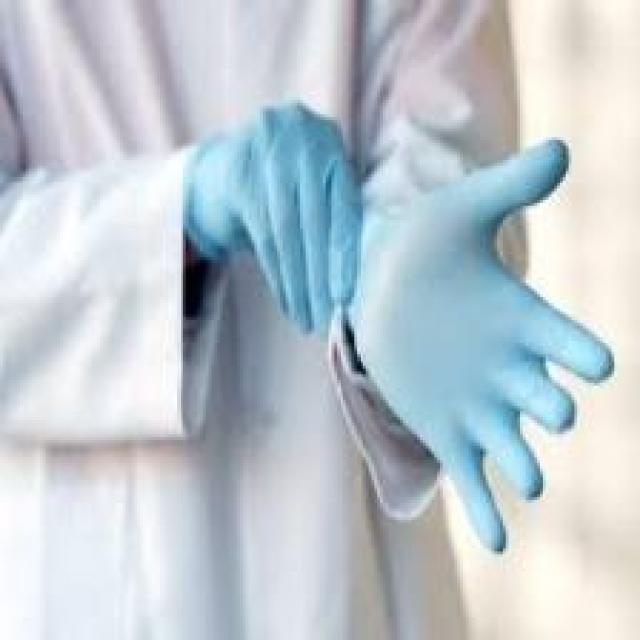Glove: (169, 117, 630, 572)
